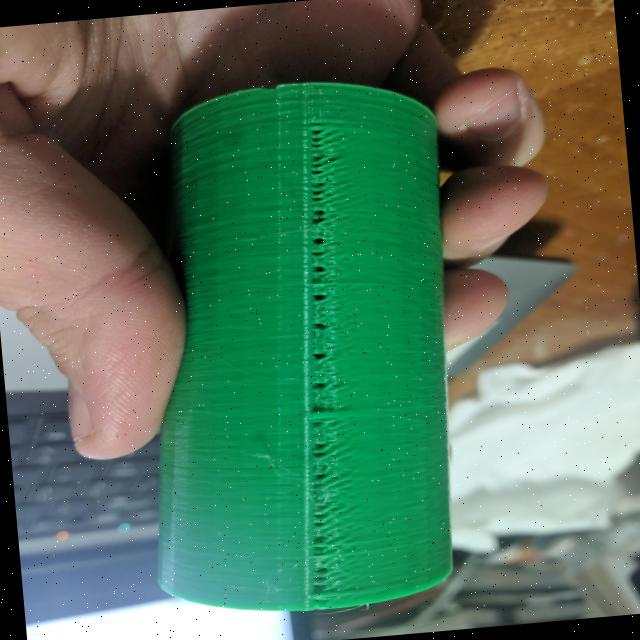cracks: (270, 114, 384, 607)
